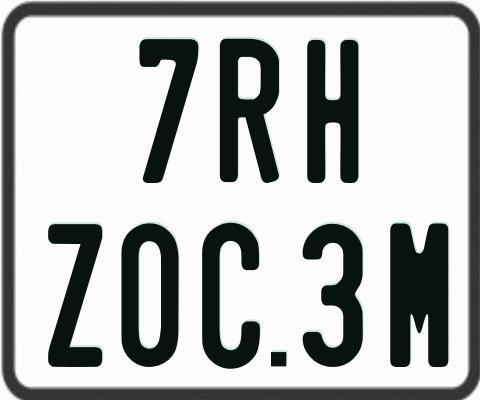0: (118, 222, 179, 370)
3: (303, 224, 367, 372)
7: (139, 38, 203, 188)
C: (199, 221, 260, 372)
H: (306, 40, 360, 183)
M: (387, 222, 449, 366)
R: (219, 37, 282, 184)
Z: (45, 222, 104, 370)
